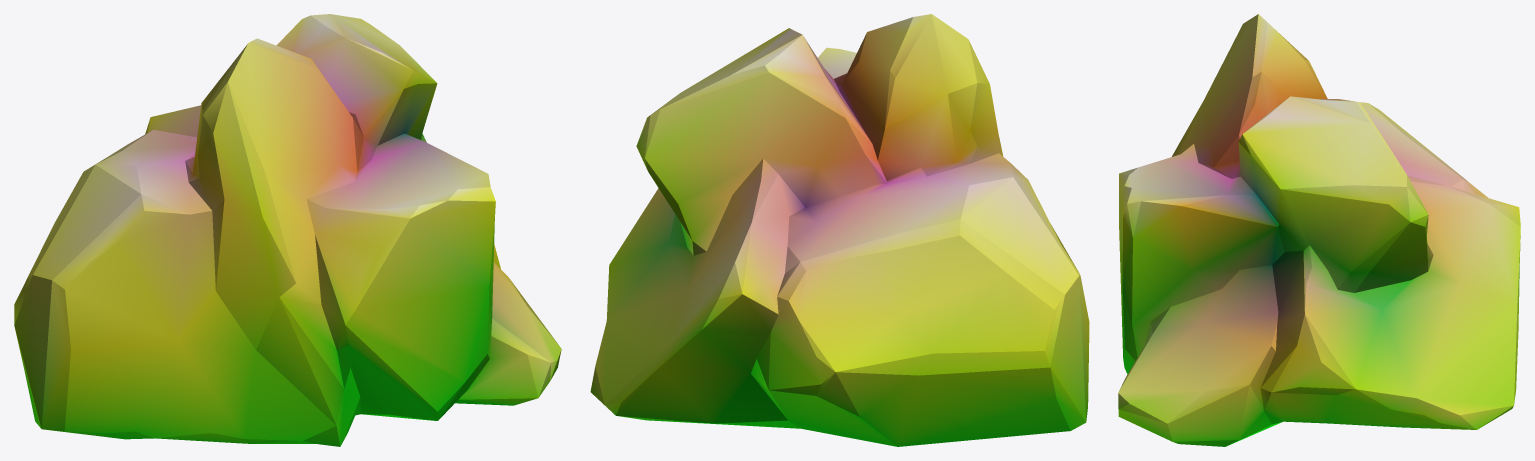
The model's file is rock_group_04_LOD2.fbx.
The picture shows the model from 3 angles, left to right: view 1: azimuth 30°, elevation 25°; view 2: azimuth 150°, elevation 25°; view 3: azimuth 270°, elevation 25°; orthographic projection. The views are drawn at different scales.
Parts seen in each view (by area): view 1: LOD2; view 2: LOD2; view 3: LOD2.
Part boxes in pixels (x1,y1,x2,y2): LOD2: (14,14,561,446); LOD2: (590,14,1089,446); LOD2: (1118,14,1520,446).
Bounding box in the file's own units: 754 × 567 × 641.
